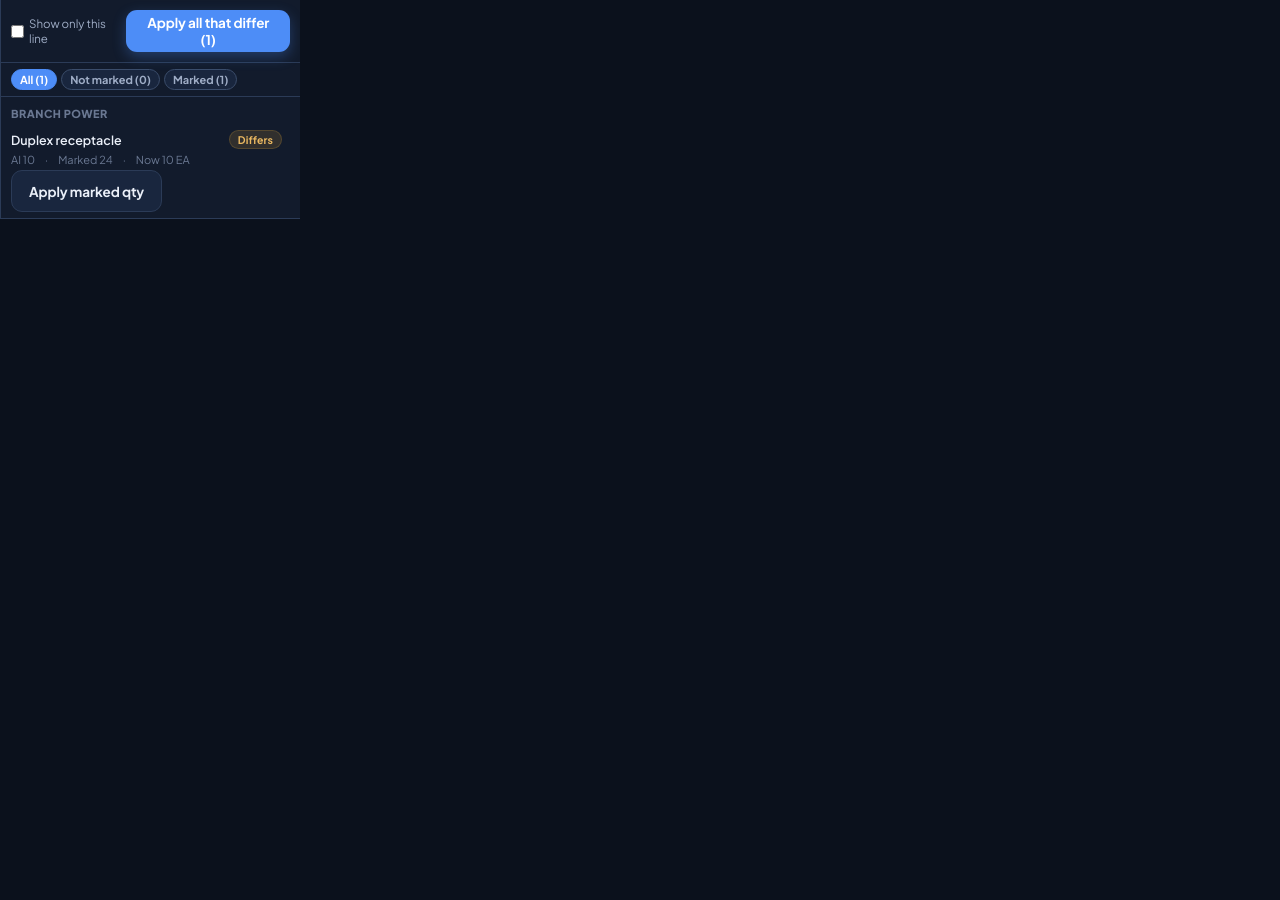
Test: ItemsPanel — apply flow › includes the $ impact preview in the confirm body when previewPriceImpact resolves
This screenshot has width=1280, height=900.
Click the button "Apply all that differ (1)" at (208, 31), box [126,10,290,52]
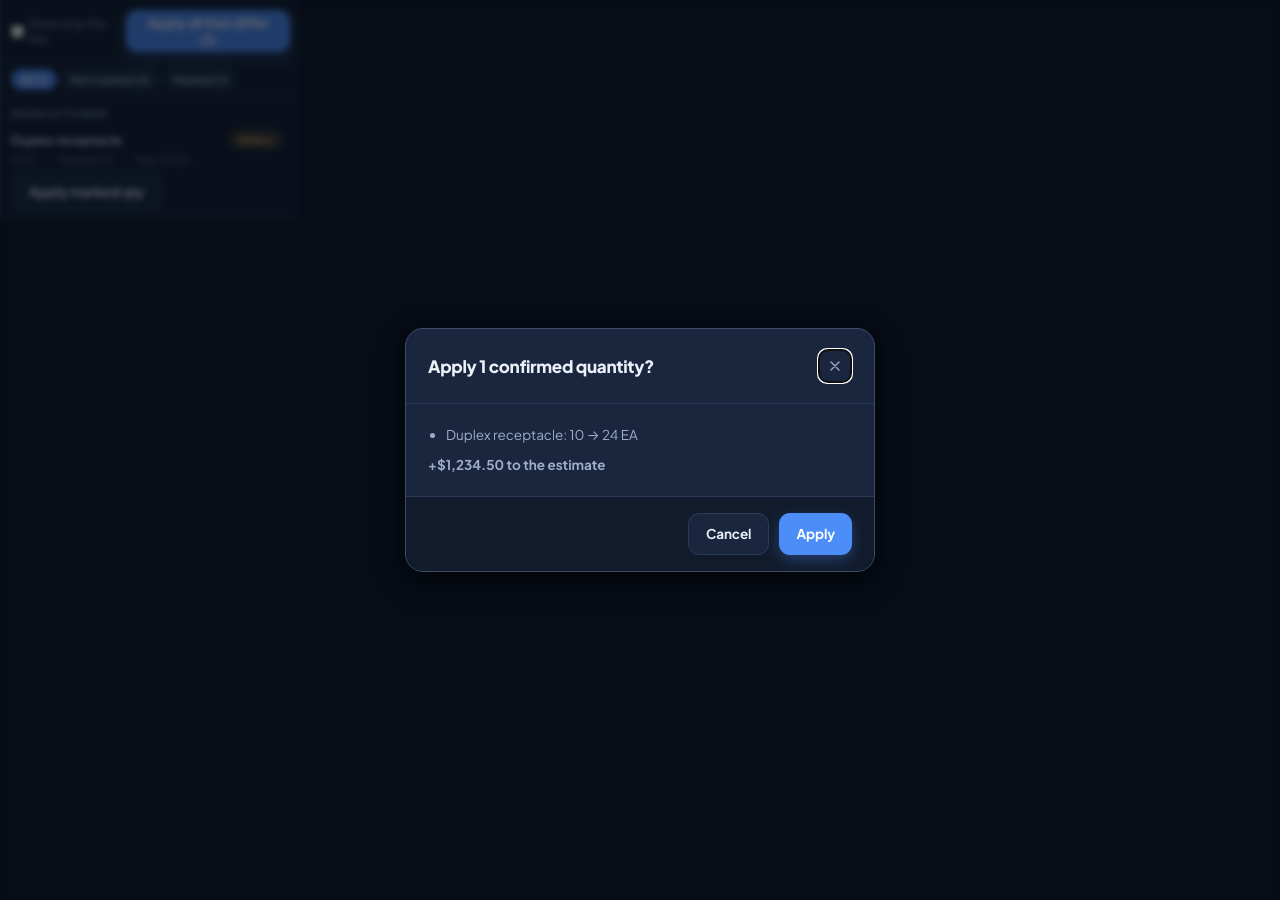
Expected: the text "+$1,234.50 to the estimate" is shown, [428,456,606,473]
